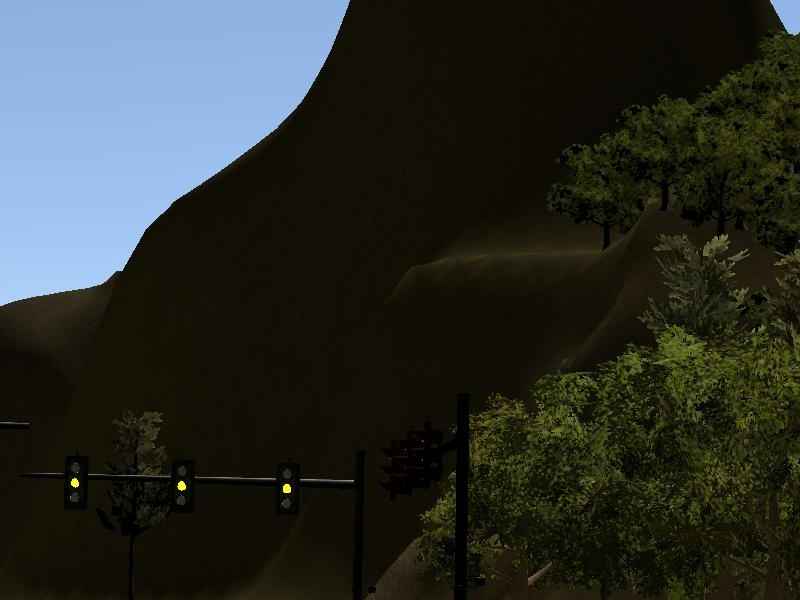yellow: (272, 457, 303, 514), (167, 456, 198, 513), (59, 455, 90, 512)
